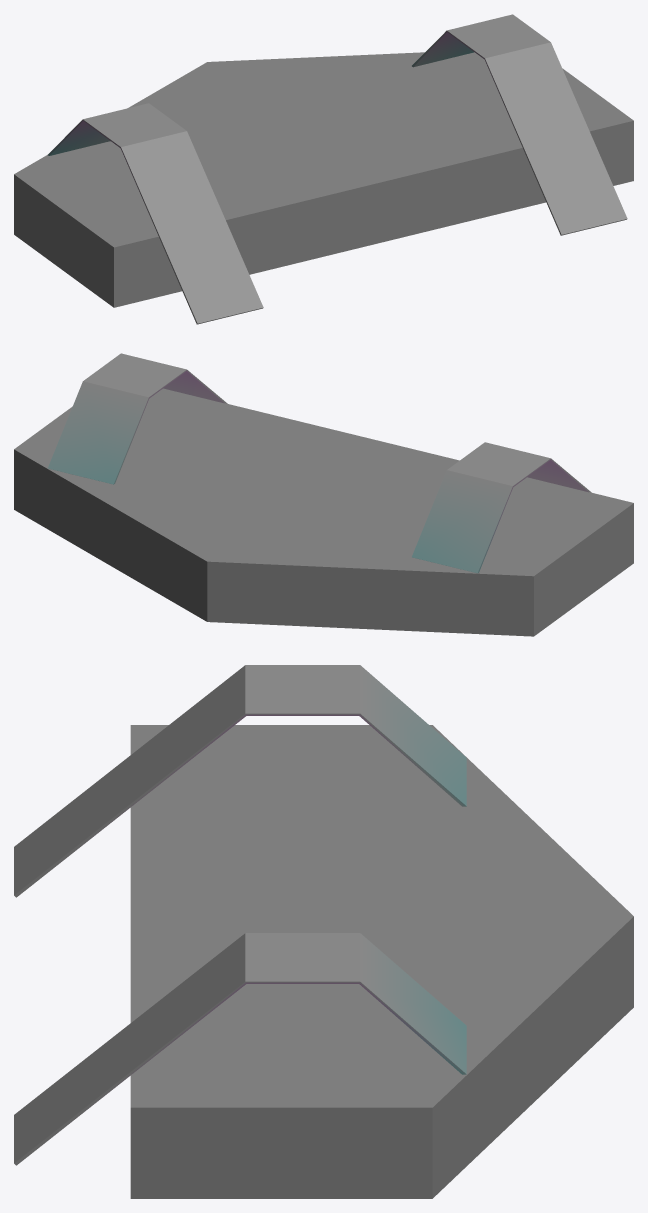
The picture shows the model from 3 angles, top to bottom: view 1: azimuth 30°, elevation 25°; view 2: azimuth 150°, elevation 25°; view 3: azimuth 270°, elevation 25°; orthographic projection. The views are drawn at different scales.
Parts seen in each view (by area): view 1: slab, bent_sheet.001, bent_sheet; view 2: slab, bent_sheet.001, bent_sheet; view 3: slab, bent_sheet, bent_sheet.001.
Boxes of the visible parts, <box> form: slab: <box>14,52,633,307</box>; bent_sheet.001: <box>48,103,263,324</box>; bent_sheet: <box>412,14,627,235</box>; slab: <box>14,388,633,636</box>; bent_sheet.001: <box>412,442,591,573</box>; bent_sheet: <box>47,353,227,484</box>; slab: <box>130,725,633,1198</box>; bent_sheet: <box>14,933,466,1165</box>; bent_sheet.001: <box>14,665,466,897</box>.
Size of the model in its own units: 3 by 0.6723 by 2.05.
